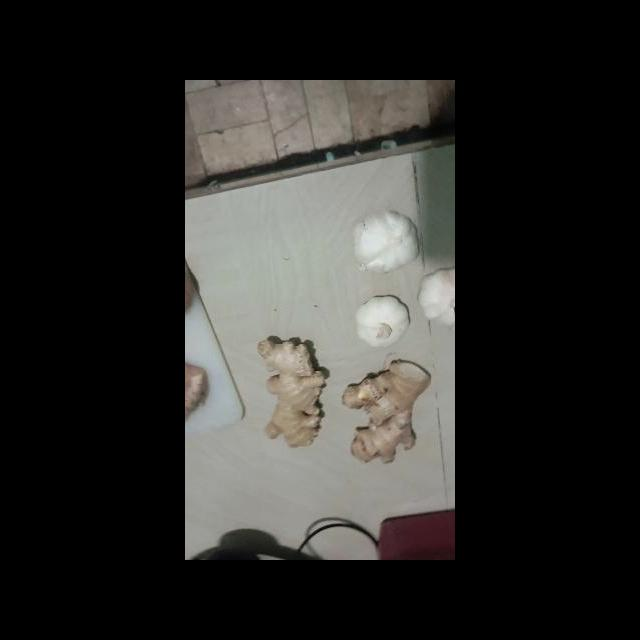garlic: (351, 210, 420, 275), (355, 292, 410, 353), (415, 264, 455, 329)
ginger: (336, 358, 429, 466), (253, 337, 327, 448)
